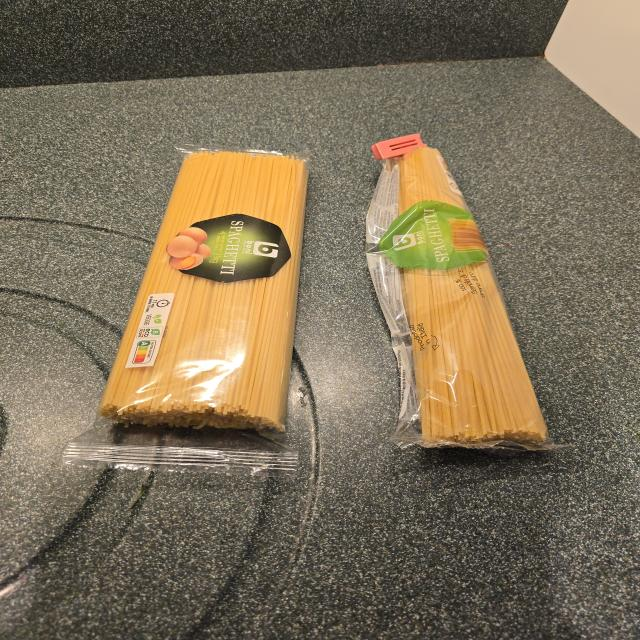Pasta: (99, 150, 307, 430), (366, 135, 550, 449)
